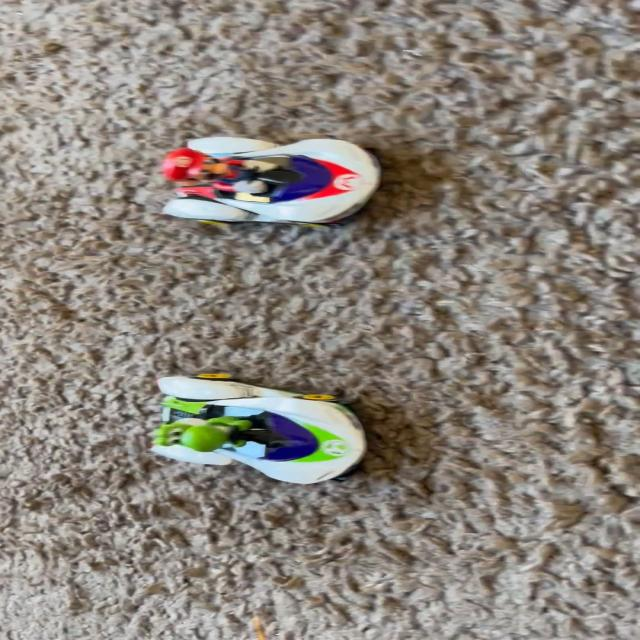mario: (145, 117, 400, 240)
yoshi: (143, 360, 390, 502)
